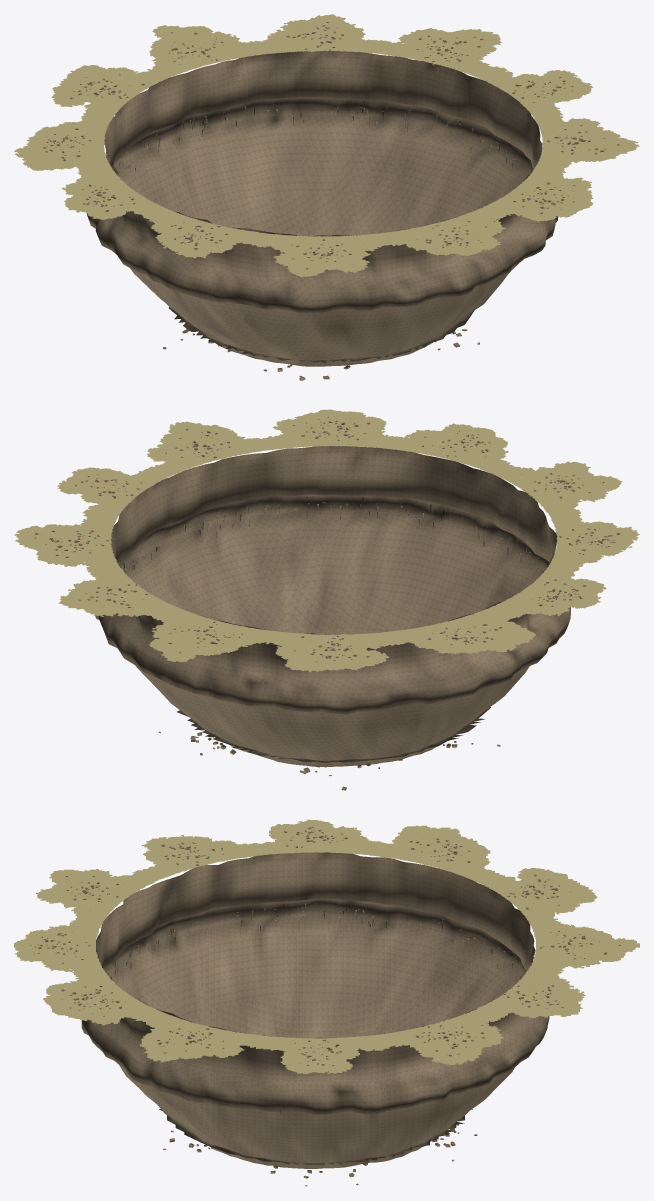
The picture shows the model from 3 angles, top to bottom: view 1: azimuth 30°, elevation 25°; view 2: azimuth 150°, elevation 25°; view 3: azimuth 270°, elevation 25°; orthographic projection.
Visible parts, largest first — view 1: hole_walls, sediment, rim, hole_floor, stalactites; view 2: hole_walls, sediment, rim, hole_floor, stalactites; view 3: hole_walls, sediment, rim, hole_floor, stalactites.
Boxes of the visible parts, x1,y1,x2,y2 form: hole_walls: (86, 50, 558, 366); sediment: (14, 14, 639, 277); rim: (43, 22, 619, 269); hole_floor: (169, 235, 474, 362); stalactites: (118, 100, 532, 300); hole_walls: (95, 446, 570, 767); sediment: (14, 409, 639, 671); rim: (34, 417, 619, 662); hole_floor: (177, 633, 495, 762); stalactites: (119, 496, 544, 683); hole_walls: (81, 852, 549, 1168); sediment: (14, 819, 639, 1073); rim: (30, 826, 620, 1065); hole_floor: (159, 1037, 472, 1164); stalactites: (108, 903, 523, 1114).
Bounding box in the file's own units: 411 × 127 × 427.
2 materials, 1 textured.
